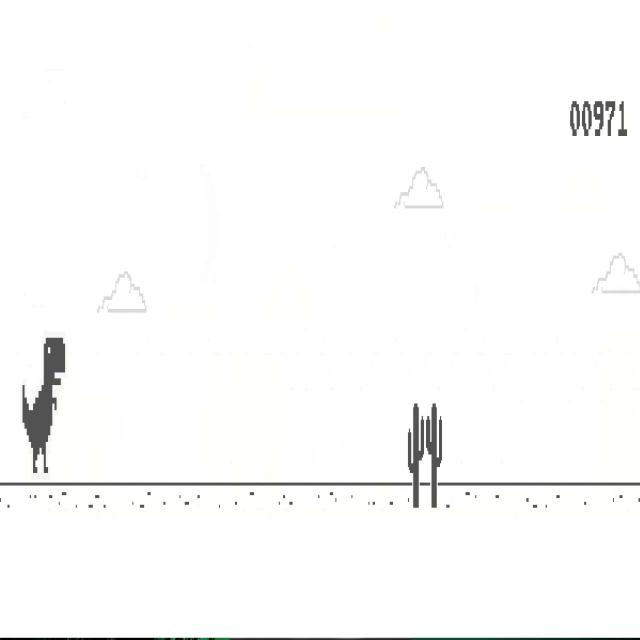cacto: (426, 402, 443, 509), (408, 402, 424, 509)
dino: (22, 336, 66, 474)
